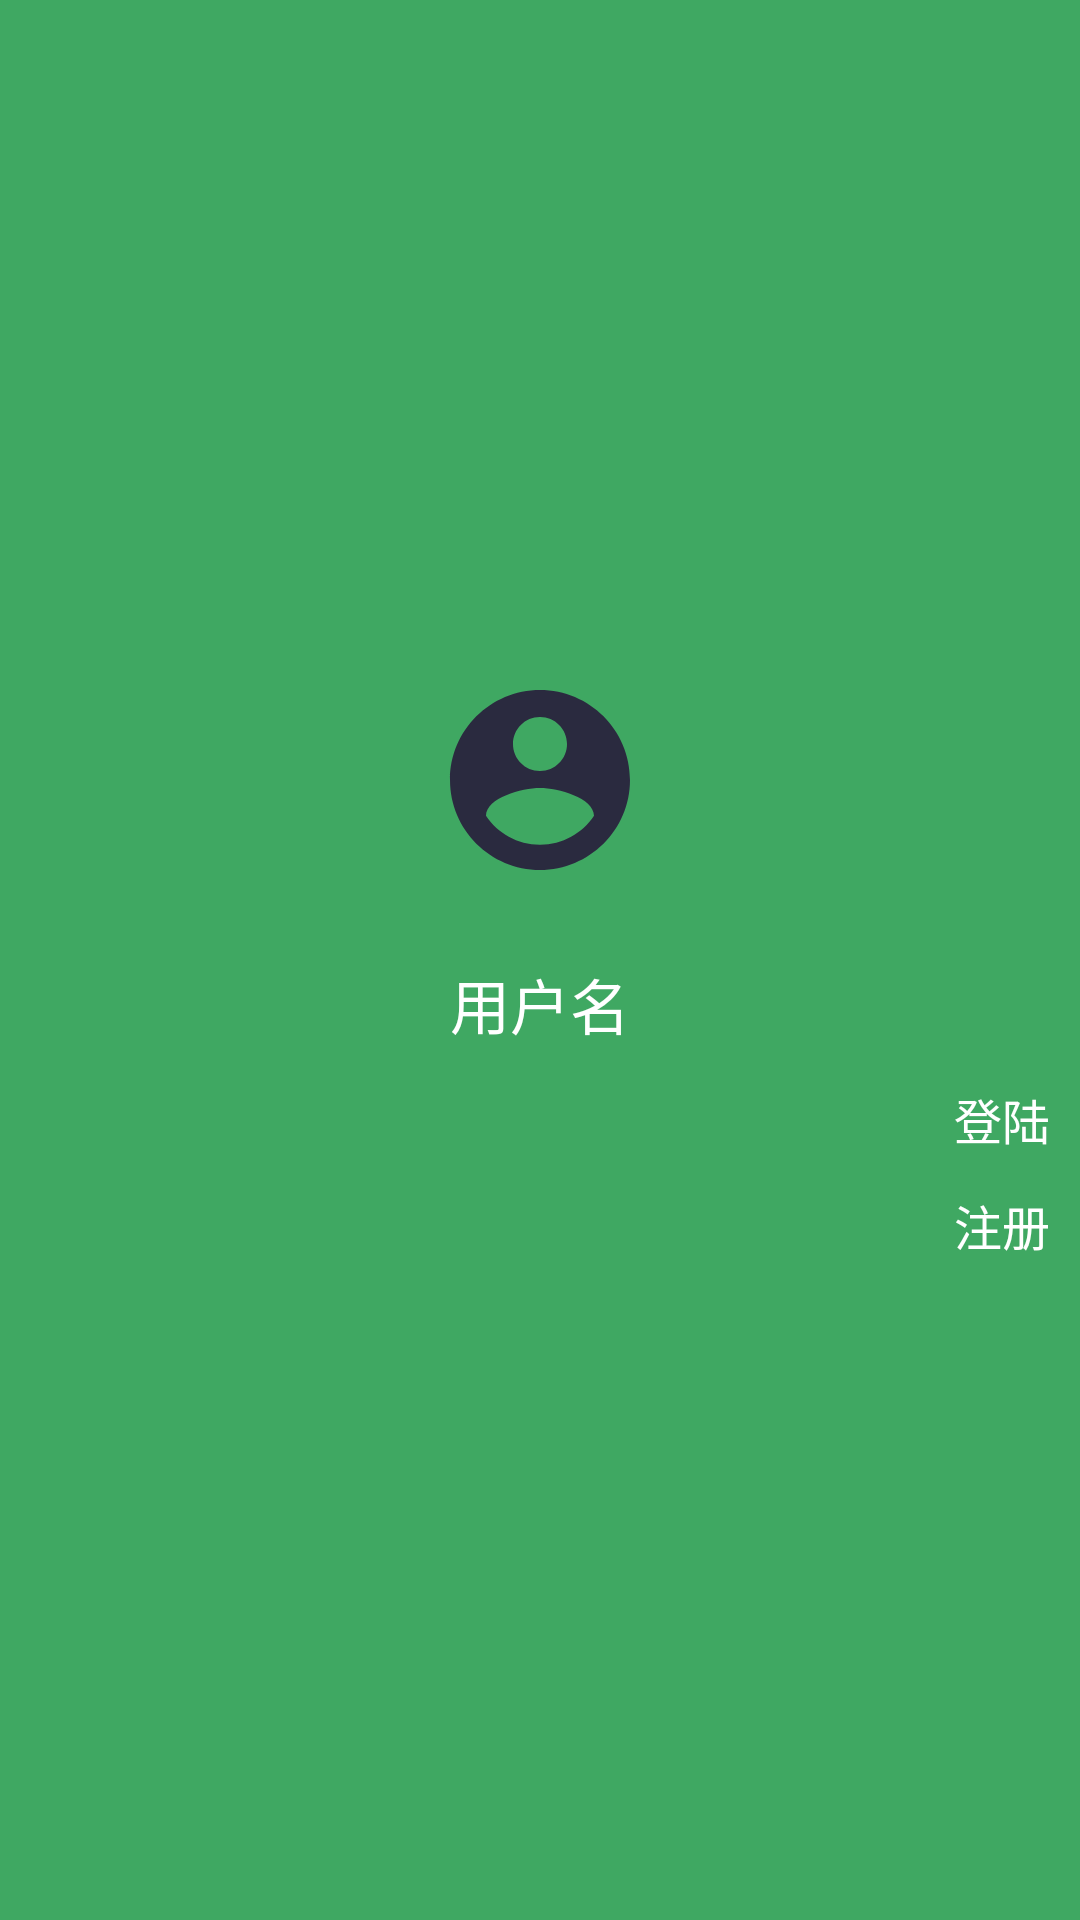

Where icons sit on this 1080×1920 app screen, as (x1, y1, x2, y2):
account circle: (450, 690, 630, 870)
